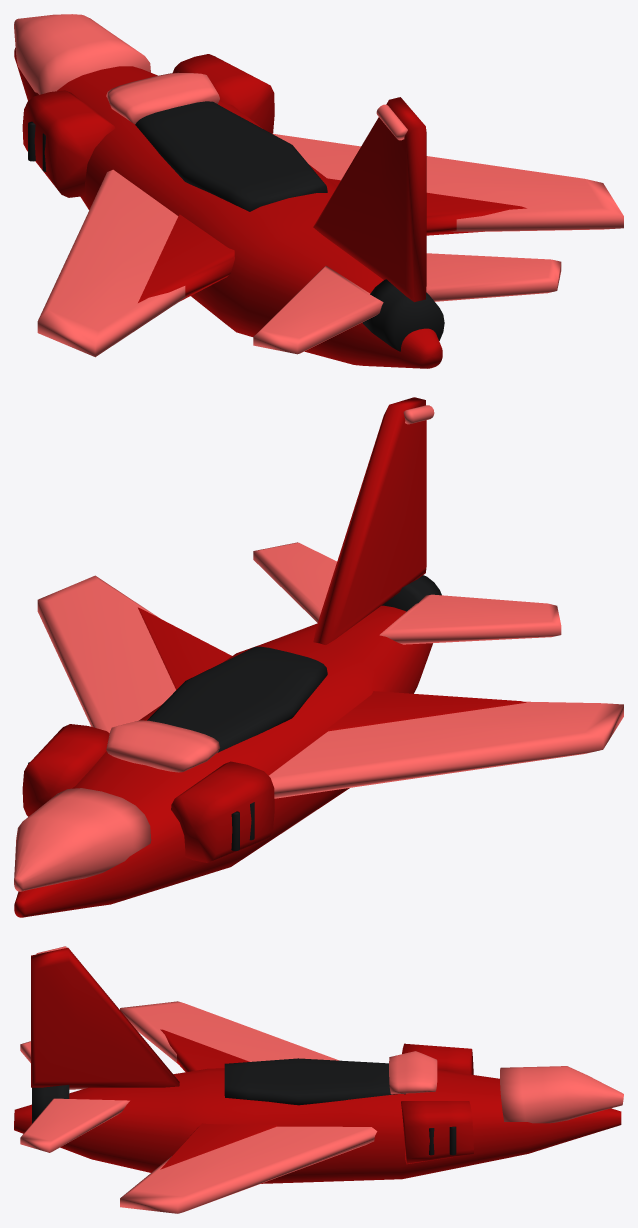
Rendered from Jet.glb.
3 views of the same model, one above another, from view 1: azimuth 30°, elevation 25°; view 2: azimuth 150°, elevation 25°; view 3: azimuth 270°, elevation 25° (orthographic). The views are drawn at different scales.
Visible parts, largest first — view 1: Body, LeftWing, TailFin, RightWing, RiderDeck, Nose, LeftIntake, LeftTailplane, RightTailplane, CockpitRim, RightIntake, Exhaust; view 2: Body, LeftWing, RightWing, TailFin, RiderDeck, Nose, LeftIntake, LeftTailplane, RightIntake, CockpitRim, RightTailplane, Exhaust; view 3: Body, TailFin, RightWing, LeftWing, RiderDeck, Nose, RightIntake, RightTailplane, CockpitRim, LeftIntake, Exhaust.
Part boxes in pixels (x1,y1,x2,y2): Body: (14,47,442,368); LeftWing: (37,169,234,357); TailFin: (313,97,426,302); RightWing: (272,133,623,235); RiderDeck: (135,101,327,211); Nose: (14,14,150,94); LeftIntake: (22,90,115,197); LeftTailplane: (253,266,383,354); RightTailplane: (426,253,561,301); CockpitRim: (106,72,219,124); RightIntake: (172,54,274,133); Exhaust: (362,279,444,351); Body: (14,605,432,917); LeftWing: (269,691,623,798); RightWing: (37,575,231,732); TailFin: (313,397,434,644); RiderDeck: (147,646,327,752); Nose: (14,788,151,891); LeftIntake: (171,761,274,862); LeftTailplane: (379,594,561,644); RightIntake: (22,724,109,816); CockpitRim: (106,720,219,772); RightTailplane: (253,542,336,622); Exhaust: (382,575,441,611); Body: (14,1068,621,1183); TailFin: (31,946,179,1087); RightWing: (120,1123,377,1213); LeftWing: (120,1001,339,1071); RiderDeck: (224,1058,405,1105); Nose: (500,1066,623,1123); RightIntake: (401,1101,473,1164); RightTailplane: (20,1098,129,1152); CockpitRim: (389,1051,437,1094); LeftIntake: (402,1043,473,1074); Exhaust: (32,1085,69,1123).
Size of the model in its own units: 1.38 by 0.7056 by 1.74.
Materials: 1 (1 with a texture image).
